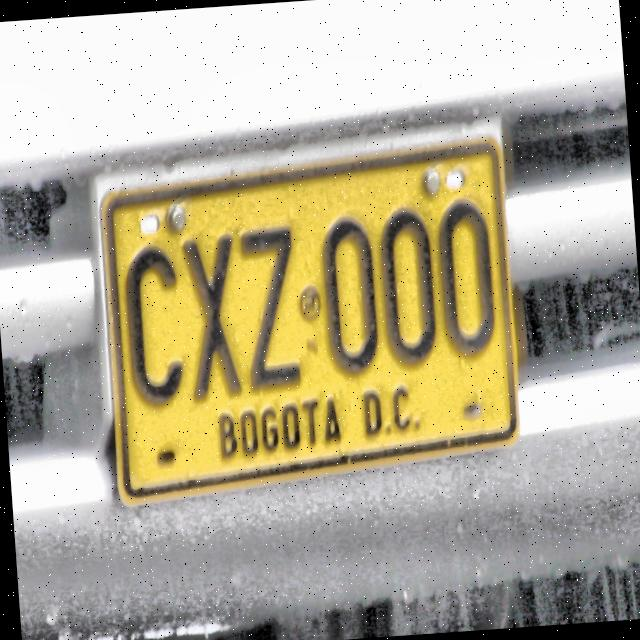0: (372, 205, 443, 372), (432, 198, 499, 365), (317, 215, 383, 382)
C: (119, 240, 190, 412)
X: (180, 231, 246, 401)
Z: (236, 224, 305, 394)
